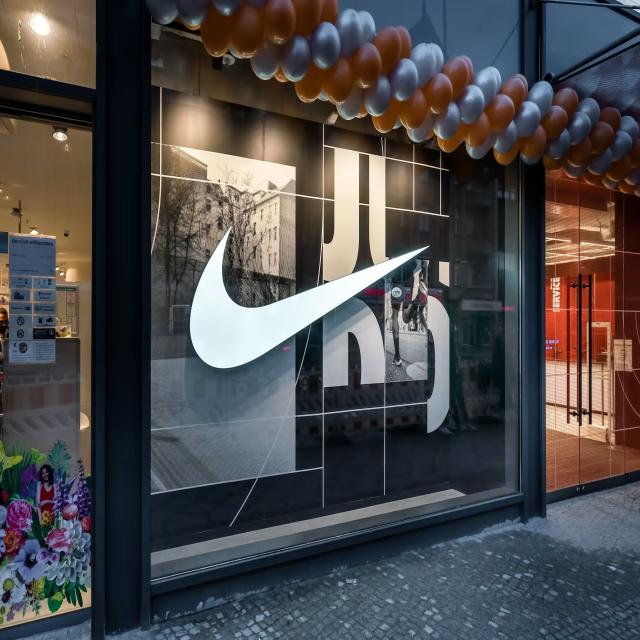nike: (173, 213, 433, 383)
